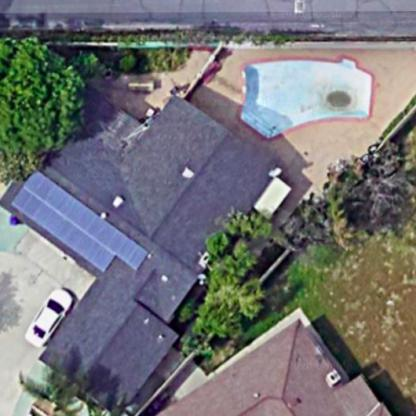car: (11, 280, 76, 348)
solar_panel: (6, 160, 155, 280)
swimming_pool: (222, 43, 384, 141)
